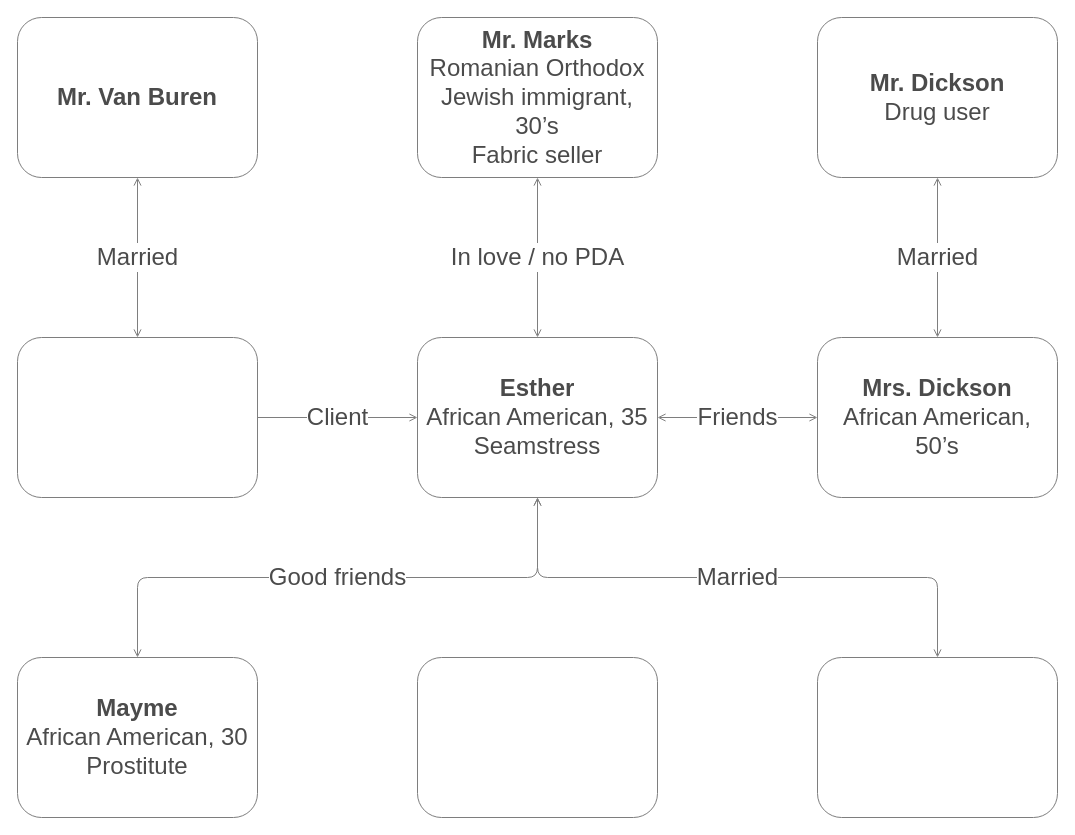
The diagram is 1075 pixels wide and 835 high, and some of its shapes have lost their labels. The shapes that lost their labels are listed below. From the top down, each one's centre as x and y in pixels, then its label:
At point 137,417: "Mrs. Van Buren White, American, 30’s".
At point 537,737: "Mr. Charles Fat and gay man".
At point 937,737: "George Barbadian immigrant, 30’s Panama canal worker".
